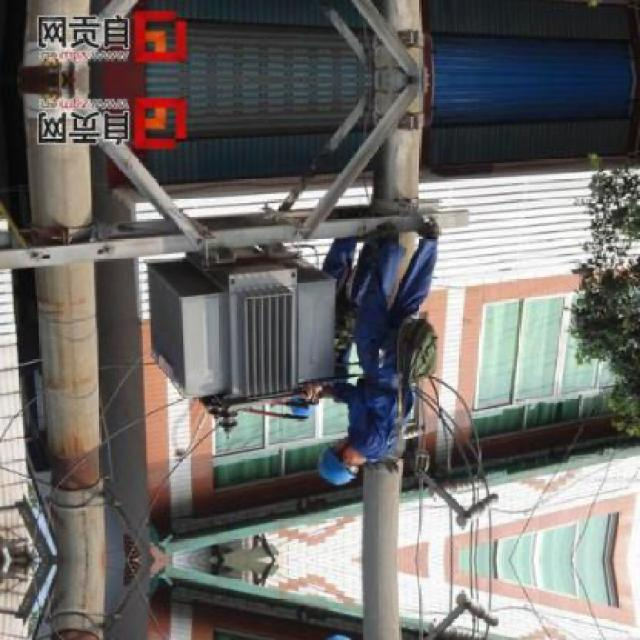con casco: (292, 436, 374, 506)
